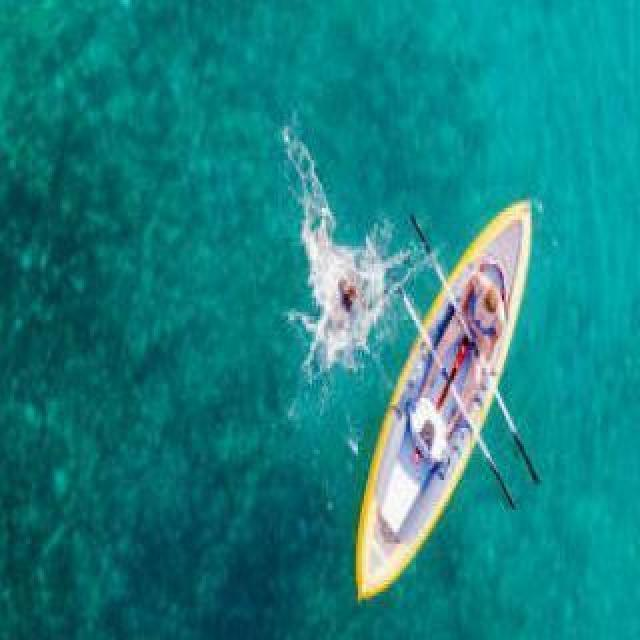kayak: (360, 201, 529, 595)
